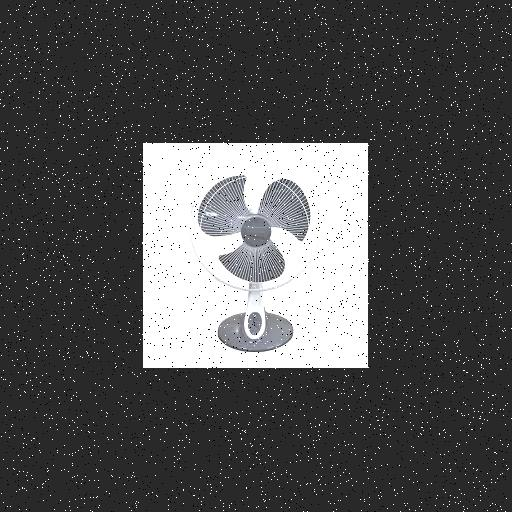Fan: (189, 160, 323, 292)
